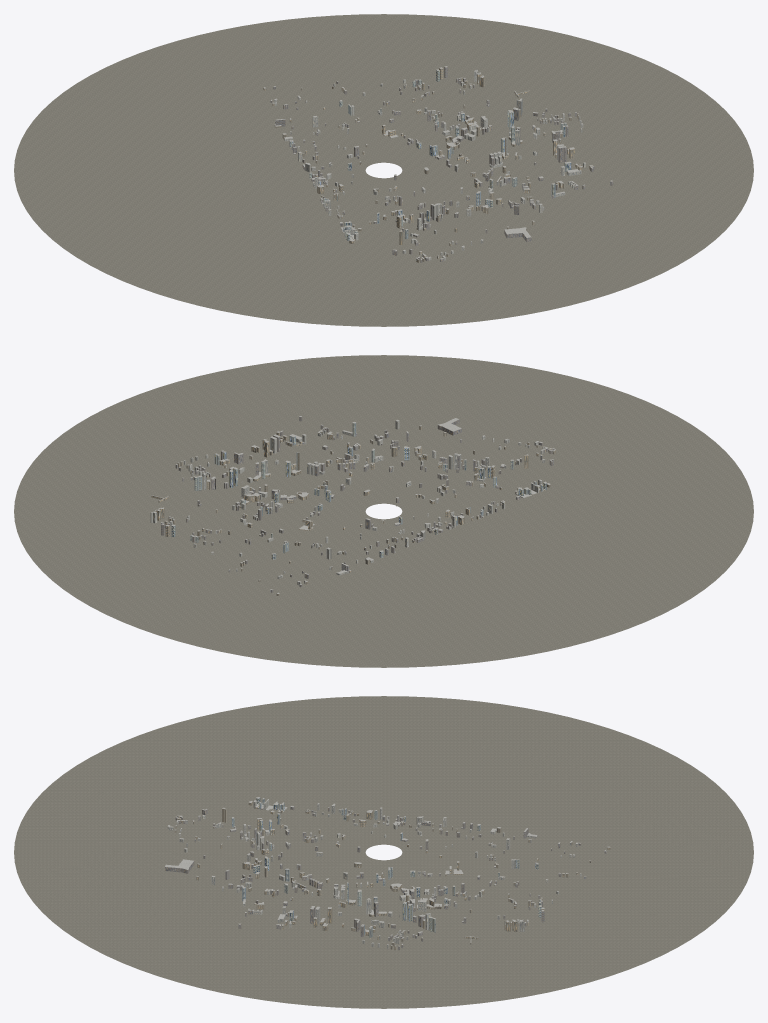
The model's file is far.glb.
3 views of the same model, one above another, from view 1: azimuth 30°, elevation 25°; view 2: azimuth 150°, elevation 25°; view 3: azimuth 270°, elevation 25° (orthographic).
Parts seen in each view (by area): view 1: far_ground, far_roof, far_band, far_plaster, far_stone, far_glass; view 2: far_ground, far_roof, far_band, far_plaster, far_stone, far_glass; view 3: far_ground, far_roof, far_plaster, far_band, far_stone, far_glass.
Boxes of the visible parts, <box> form: far_ground: <box>14,14,753,326</box>; far_roof: <box>263,66,612,259</box>; far_band: <box>270,67,613,262</box>; far_plaster: <box>274,69,585,260</box>; far_stone: <box>263,68,592,262</box>; far_glass: <box>289,70,571,241</box>; far_ground: <box>14,355,753,667</box>; far_roof: <box>151,416,555,593</box>; far_band: <box>161,417,554,592</box>; far_plaster: <box>150,420,545,585</box>; far_stone: <box>151,426,555,595</box>; far_glass: <box>171,423,546,559</box>; far_ground: <box>14,696,753,1008</box>; far_roof: <box>165,797,610,946</box>; far_plaster: <box>168,799,581,948</box>; far_band: <box>165,806,606,950</box>; far_stone: <box>174,802,610,950</box>; far_glass: <box>231,797,541,938</box>.
Size of the model in its own units: 8000 by 300 by 8000.
6 materials, 6 textured.
